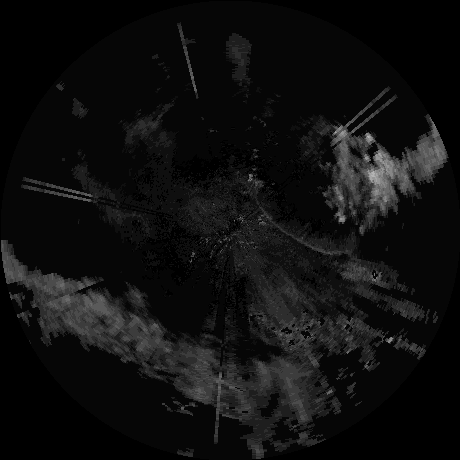frontgust: (252, 188, 351, 254)
